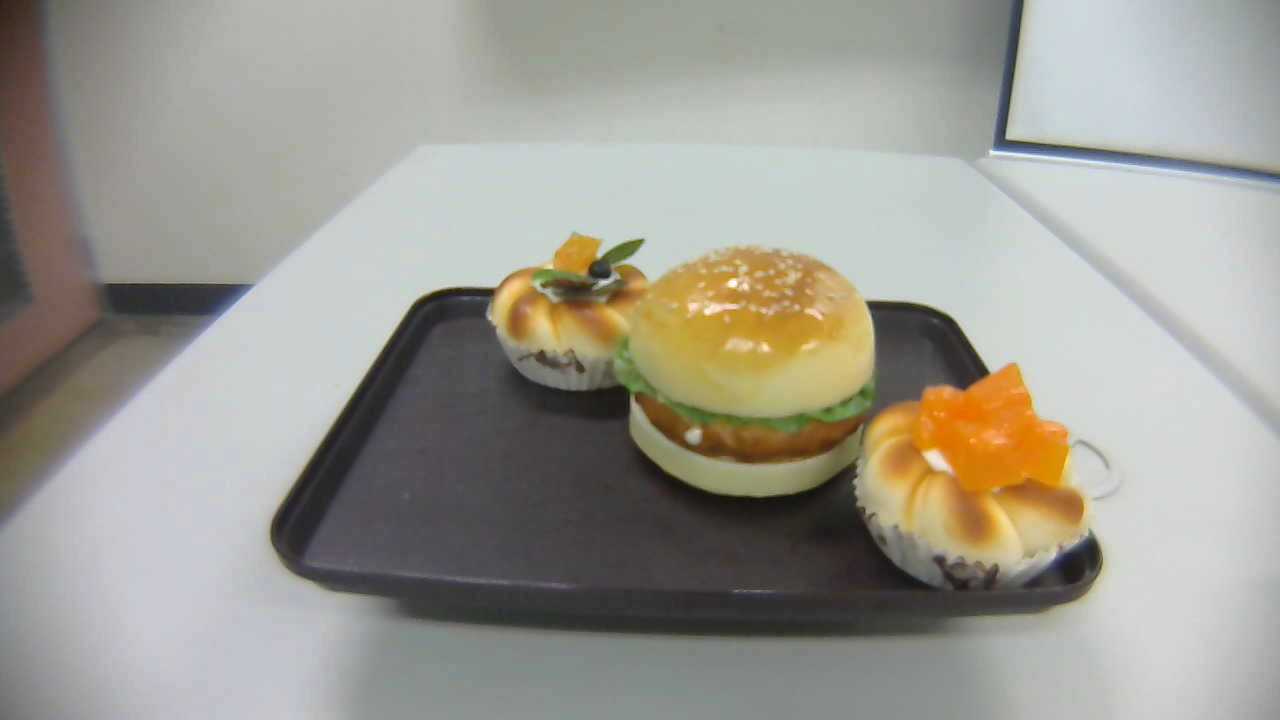fruit tart: (487, 230, 651, 391)
hamburger: (624, 241, 875, 497)
mango tart: (859, 362, 1093, 599)
